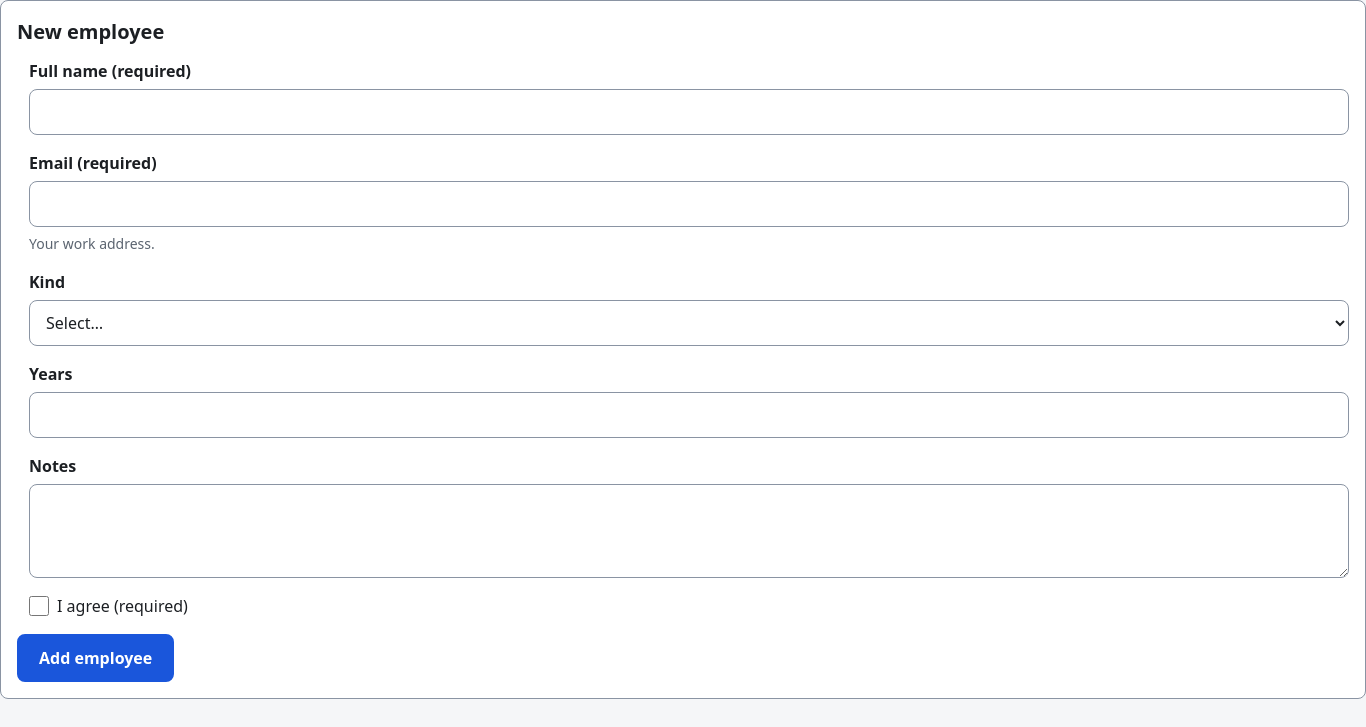
Scenario: Form: fields that depend on another field › keeps the typed value when the field is hidden and shown again
This screenshot has width=1366, height=727.
Step 1. Select "Contractor" in the dropdown labelled "Kind" → (689, 323), box [29,300,1349,346]
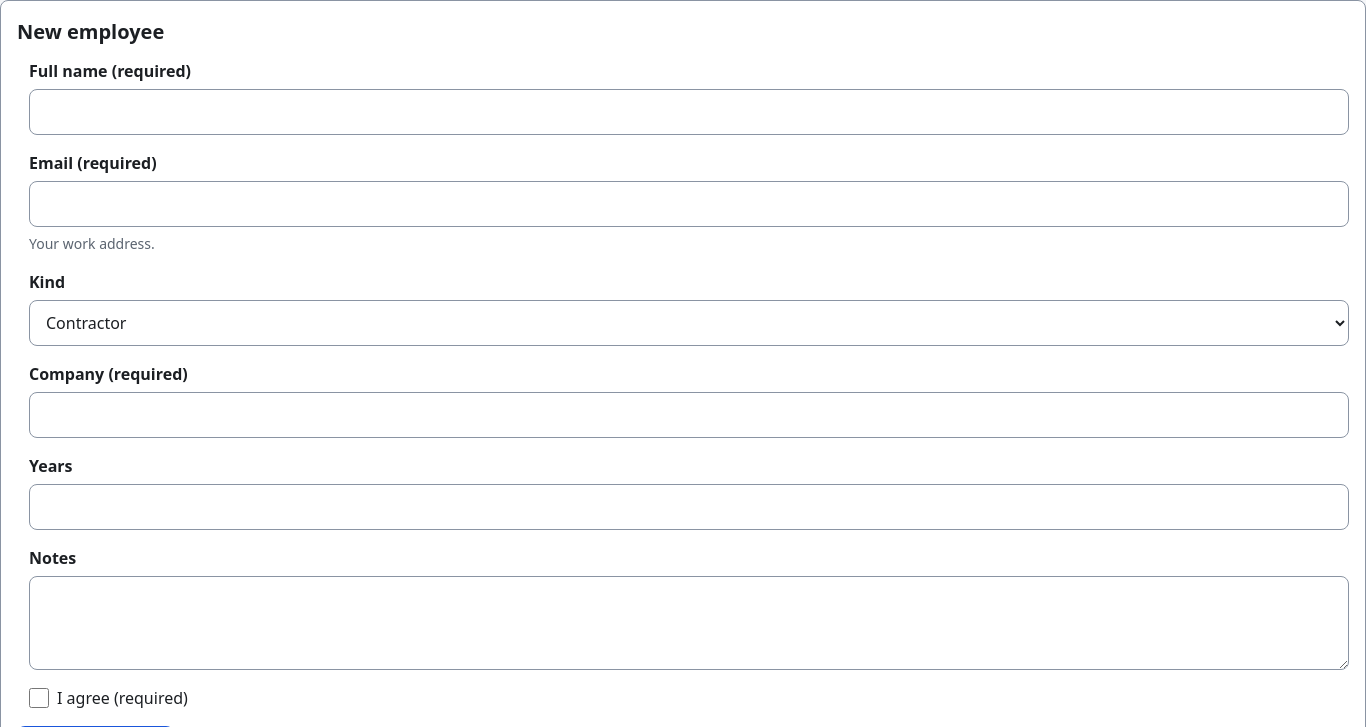
Step 2. Type "Acme" into the field labelled "Company" → (689, 415), box [29,392,1349,438]
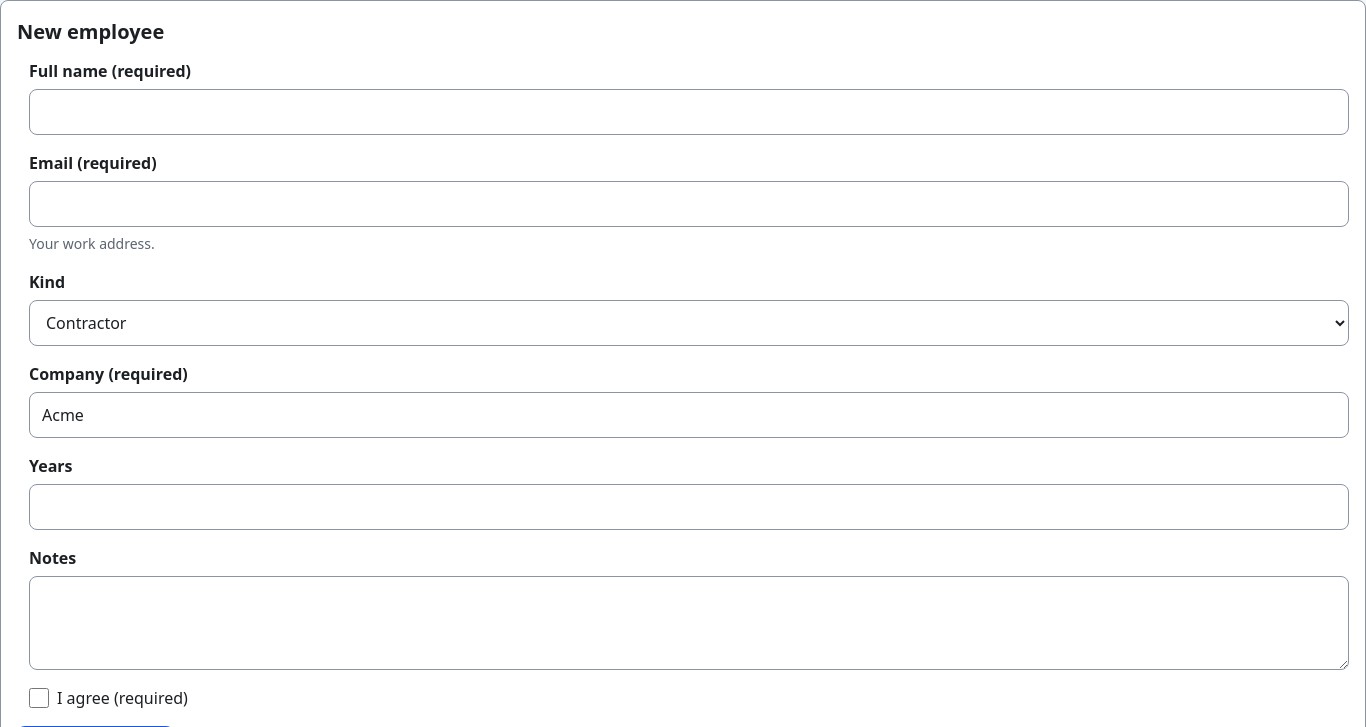
Step 3. Select "Full-time" in the dropdown labelled "Kind" → (689, 323), box [29,300,1349,346]
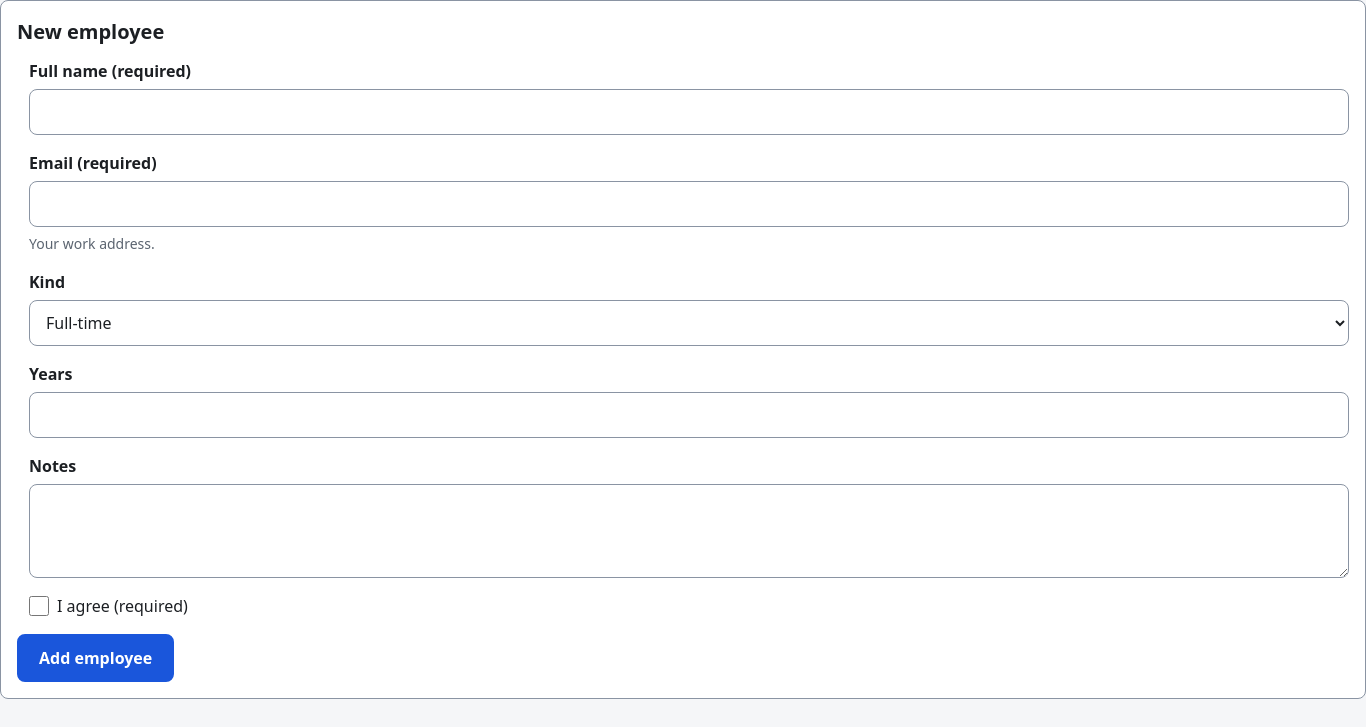
Step 4. Select "Contractor" in the dropdown labelled "Kind" → (689, 323), box [29,300,1349,346]
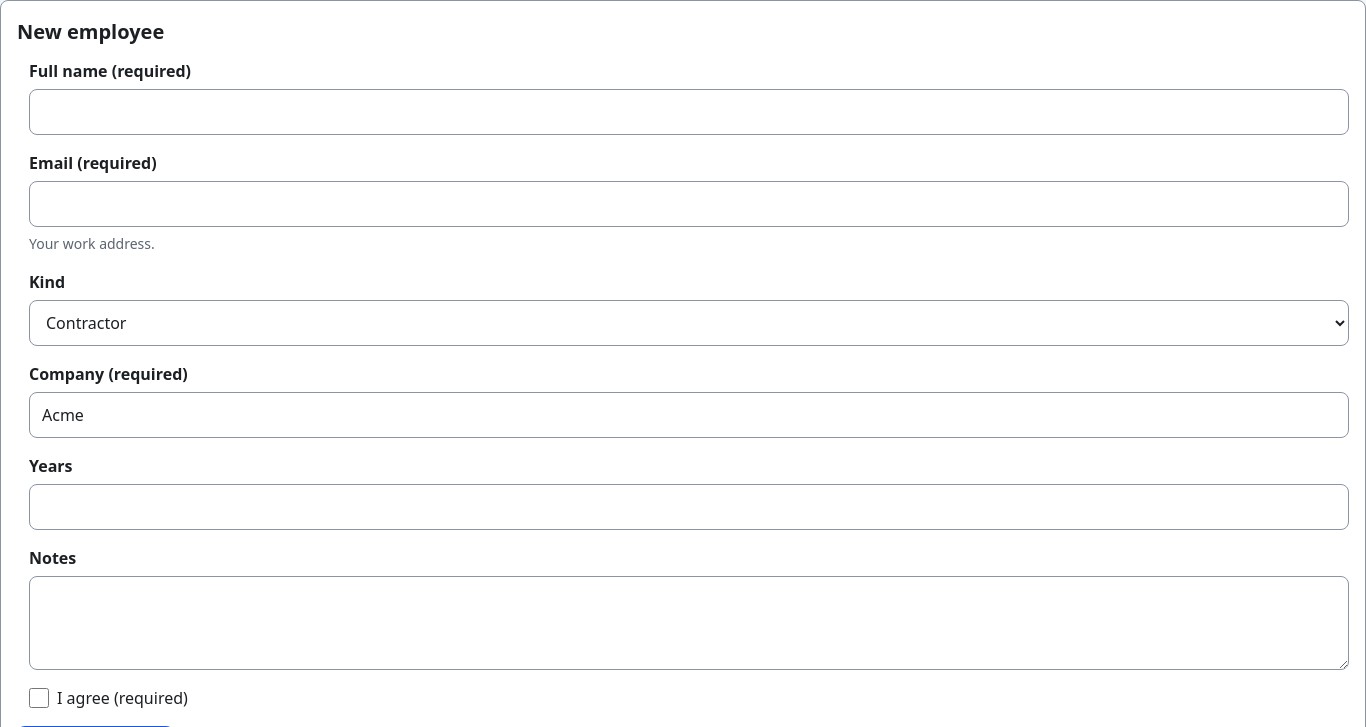
Expected: the field labelled "Company" holds "Acme", [29,392,1349,438]
